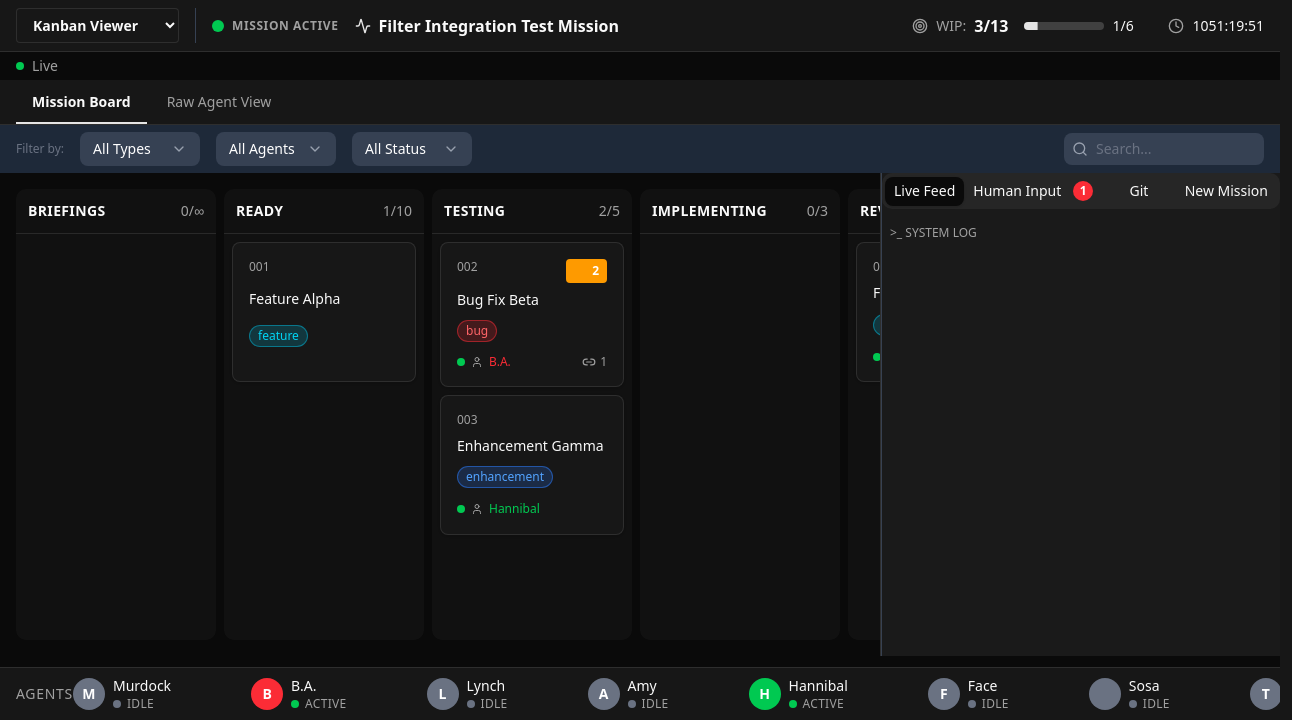
Scenario: Page Filter Integration (Item 009) › Filtered items display across all columns › should update columns when filter changes without page reload
Expected: the text "Feature Alpha" is shown, [249, 288, 340, 308]
Expected: the text "Bug Fix Beta" is shown, [457, 290, 539, 309]
Apply 'bug' type filter
Click the button with test id "type-filter-dropdown". click: x=140, y=149
box: [80, 132, 200, 166]
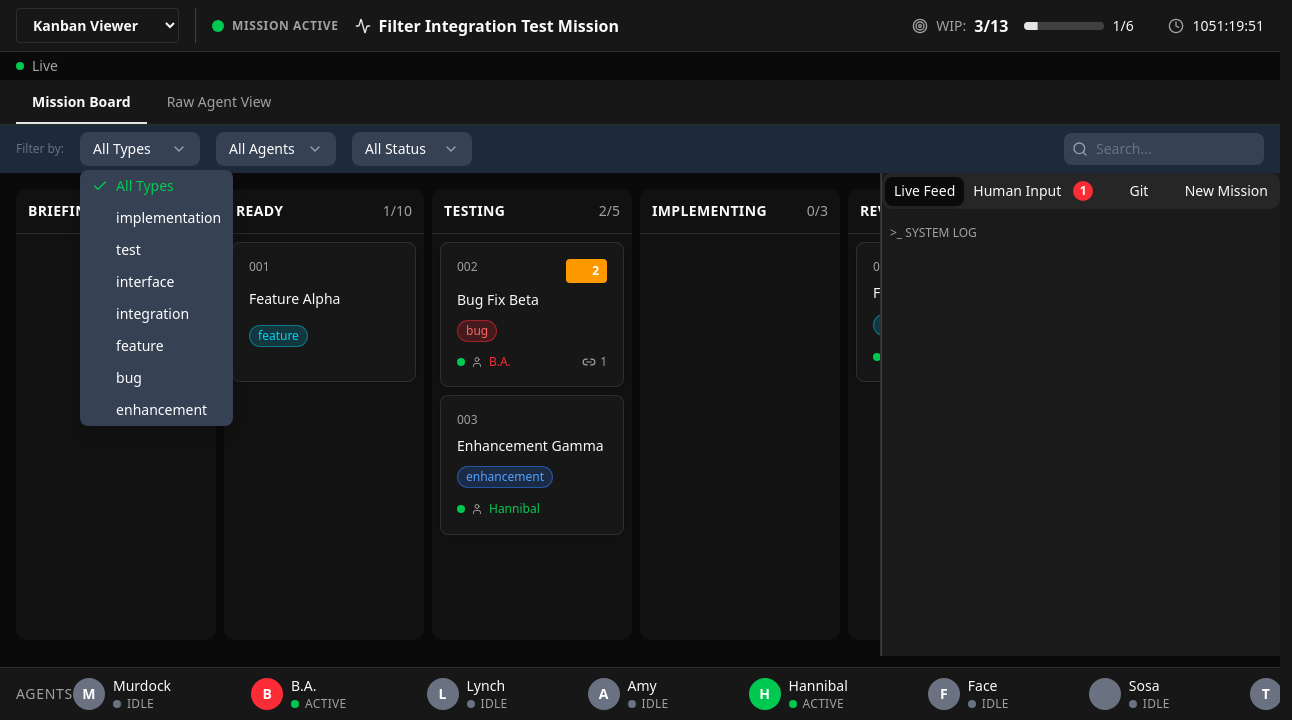
Click the option "bug". click: x=129, y=378
box: [116, 368, 142, 387]
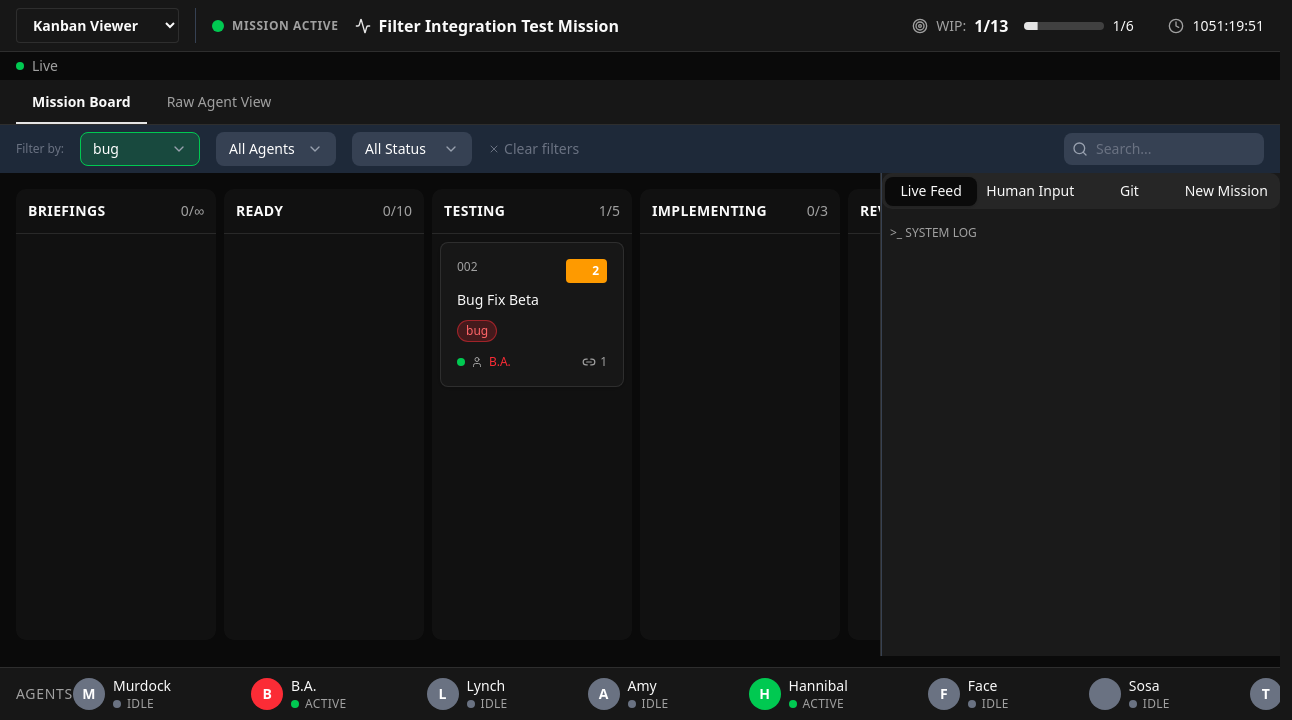
Expected: the text "Bug Fix Beta" is shown, [457, 290, 539, 309]
Now change to 'feature' type filter
Click the button with test id "type-filter-dropdown". click: x=140, y=149
box: [80, 132, 200, 166]
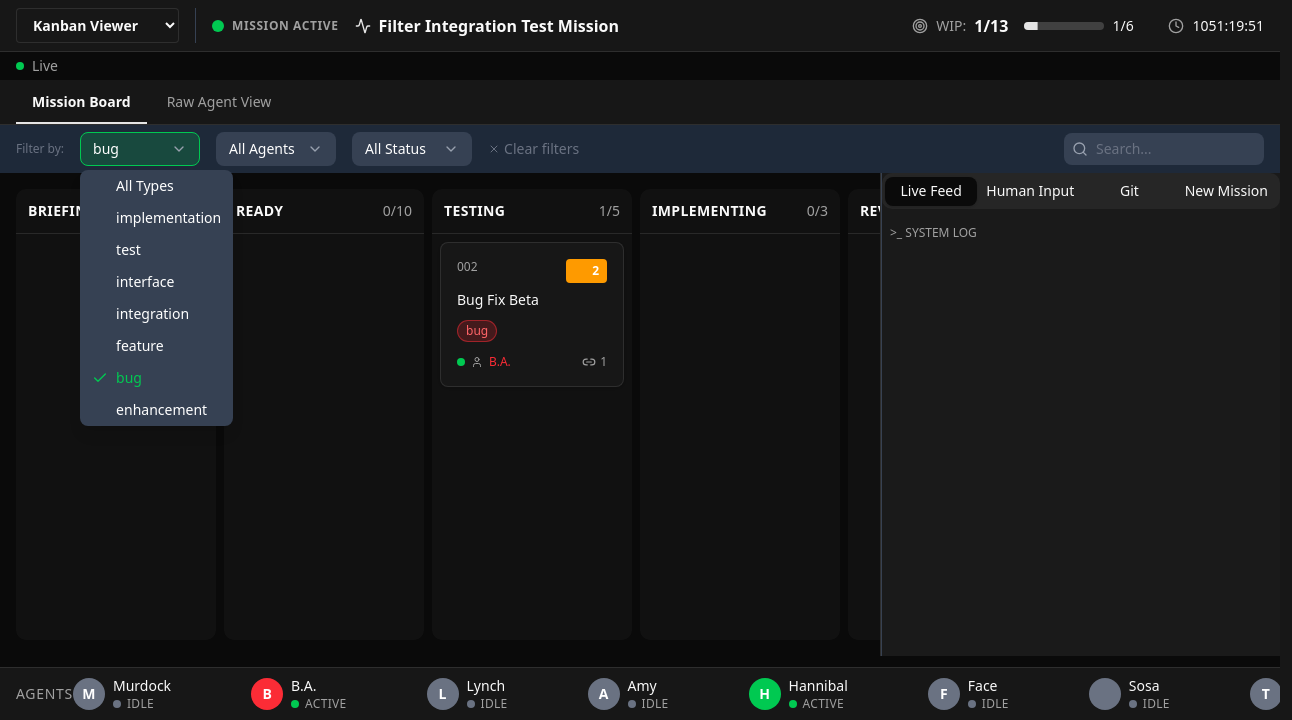
Click the option "feature". click: x=140, y=346
box: [116, 336, 164, 355]
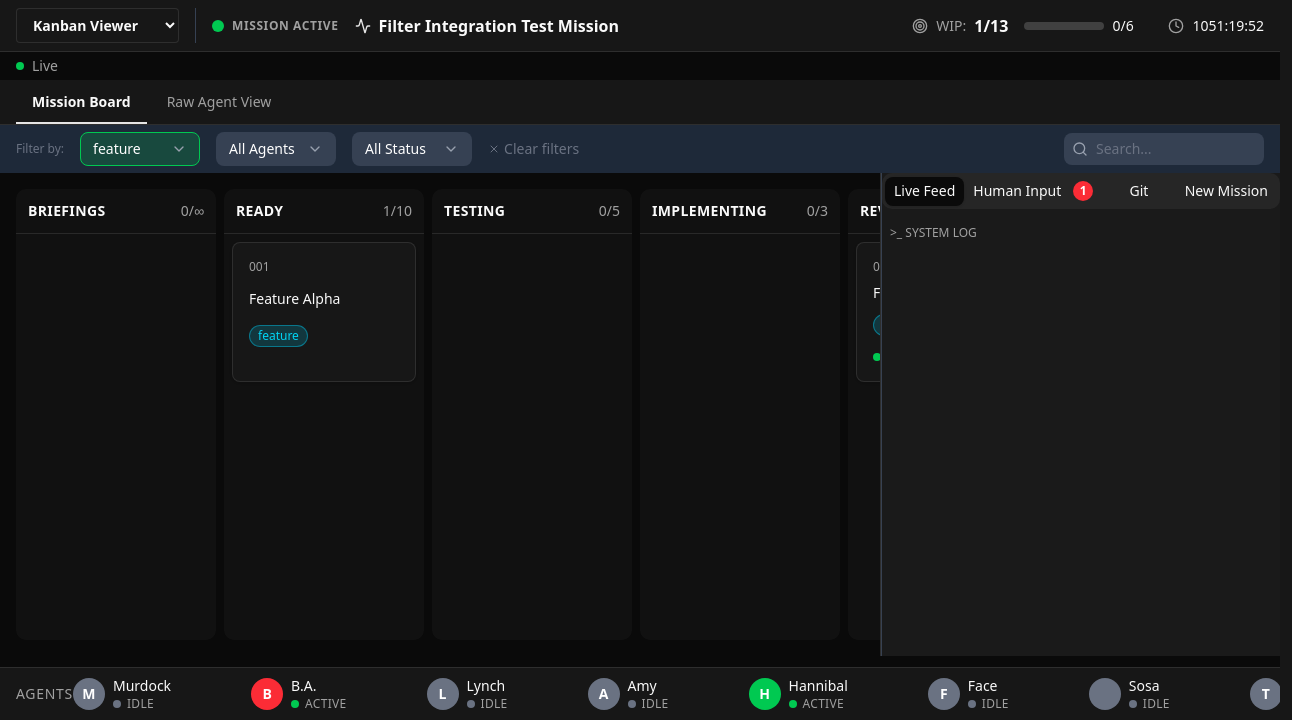
Now the text "Feature Alpha" is shown, box [249, 288, 340, 308]
Now the text "Bug Fix Beta" is gone
